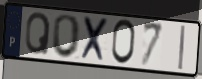7: (141, 20, 165, 69)
I: (177, 24, 187, 72)
O: (50, 14, 83, 60), (110, 18, 137, 67)
Q: (24, 11, 52, 56)
X: (79, 15, 111, 64)
